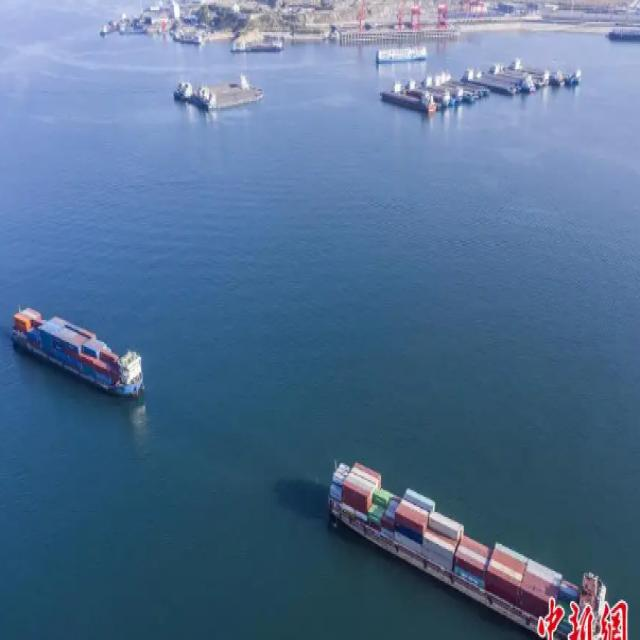cargoship: (322, 434, 622, 624), (0, 291, 148, 401)
